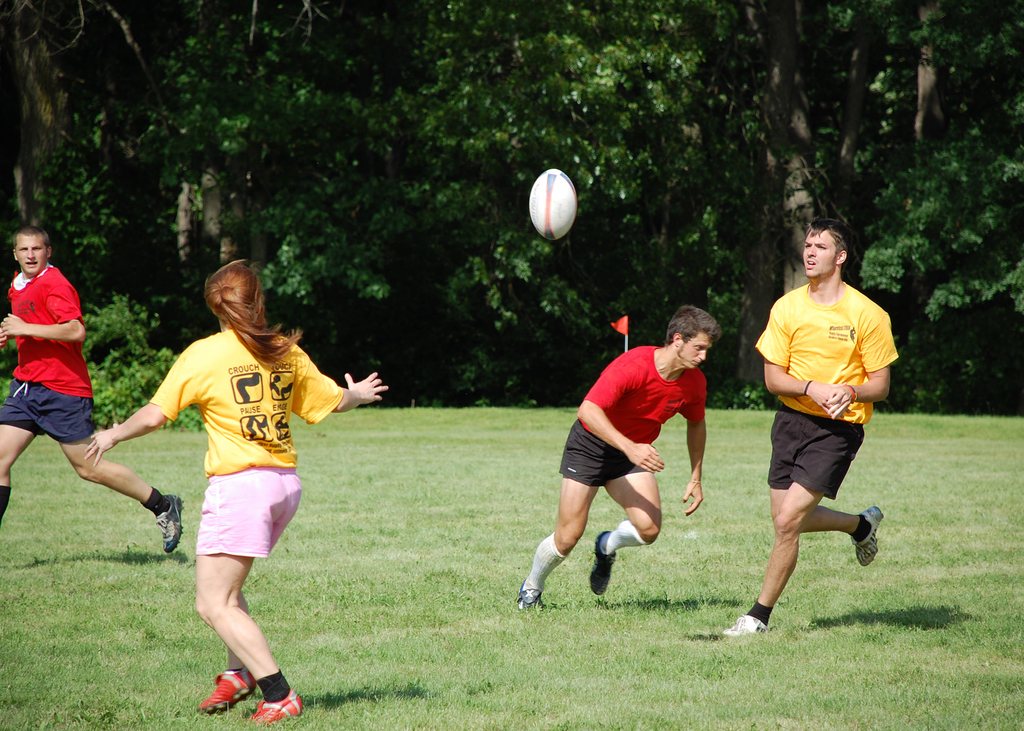Ball: (528, 165, 577, 241)
